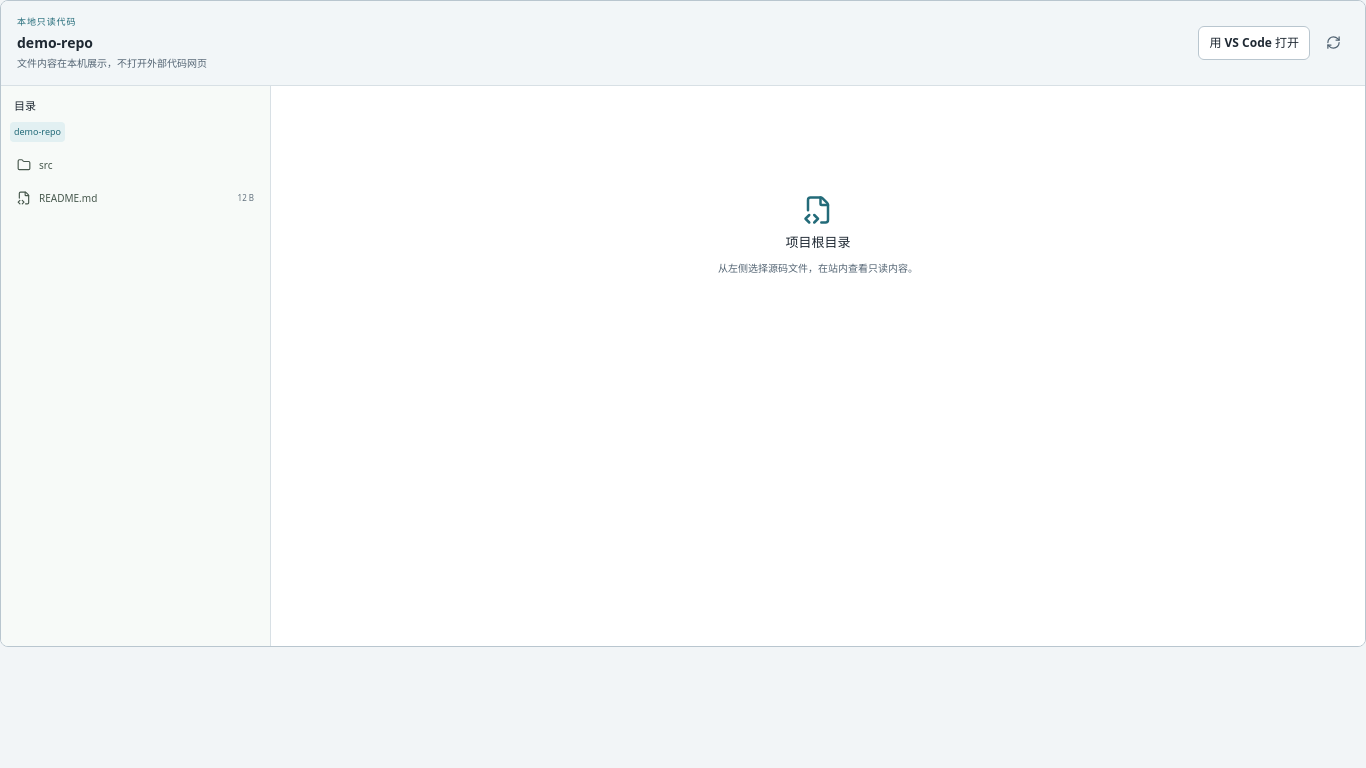
Test case: CodeBrowser › browses a local tree and renders a selected file with line numbers
The image size is (1366, 768).
Expected: the text "demo-repo" is shown, [17,32,93,52]
Click the button with aria-label "打开文件 README.md": point(136, 198) [8,182,263,214]
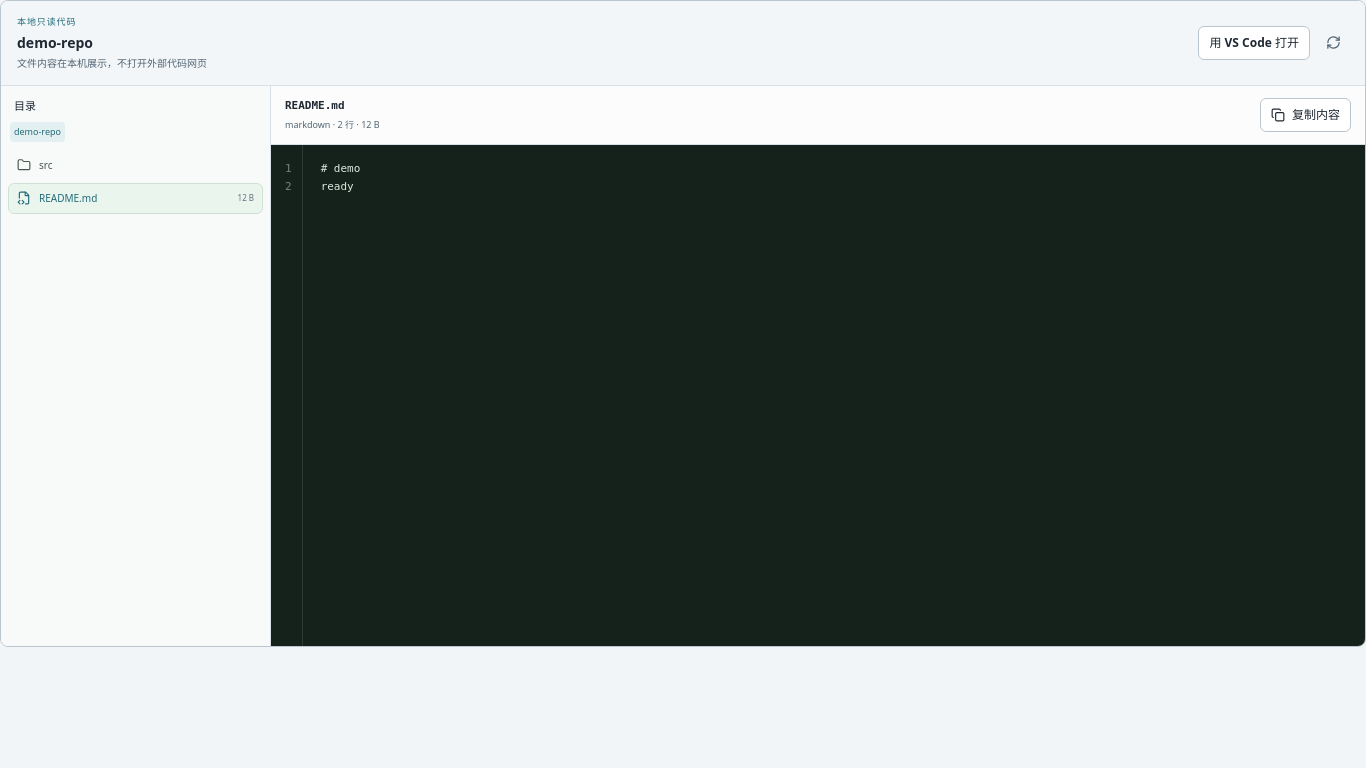
Expected: the element named "代码内容" is shown, [271,144,1365,646]
